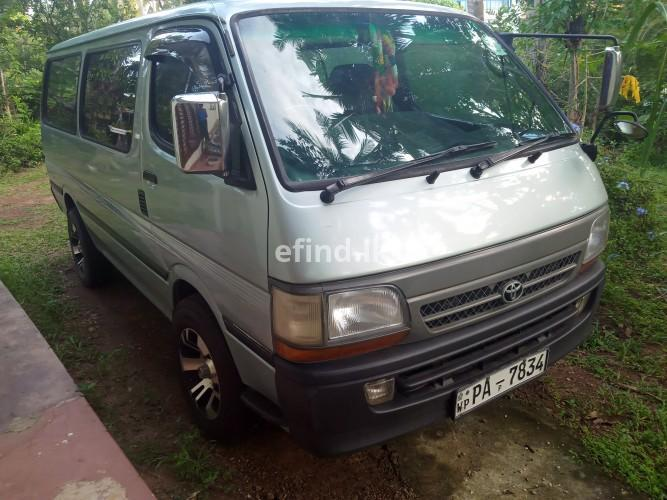car: (36, 0, 635, 446)
